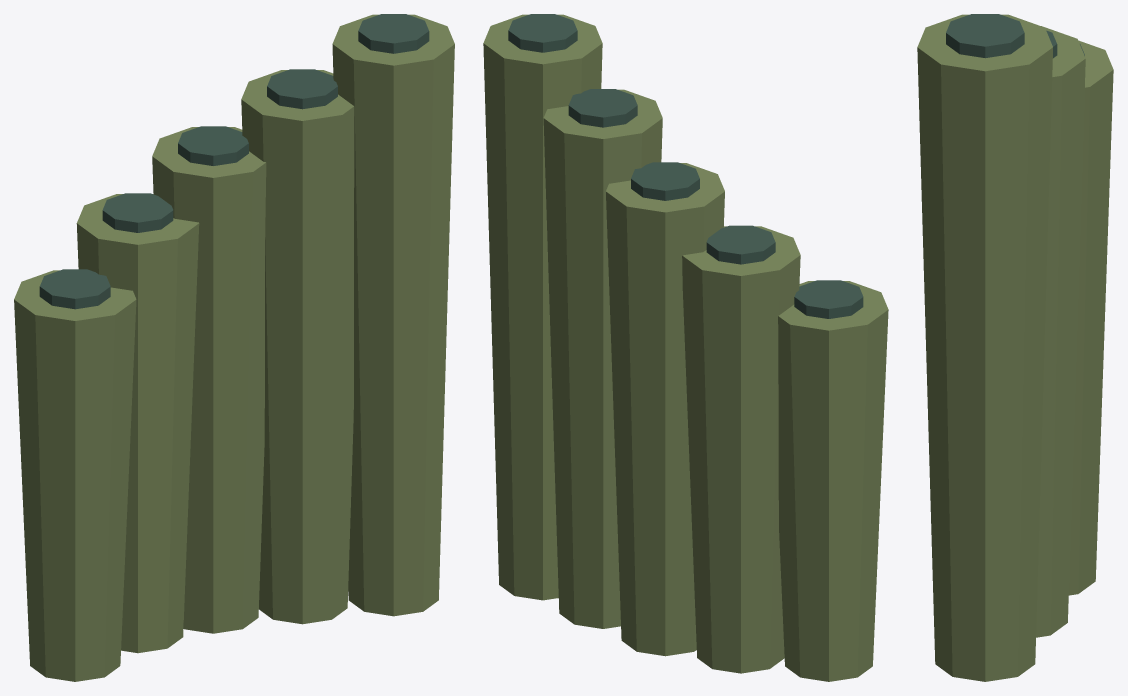
File: map-boundaries-v5__tide_11.glb
3 renders of one model, left to right at view 1: azimuth 30°, elevation 25°; view 2: azimuth 150°, elevation 25°; view 3: azimuth 270°, elevation 25°, orthographic. The views are drawn at different scales.
Parts seen in each view (by area): view 1: tide_11; view 2: tide_11; view 3: tide_11.
Part boxes in pixels (x1=…): tide_11: x1=14, y1=14, x2=454, y2=681; tide_11: x1=483, y1=14, x2=888, y2=681; tide_11: x1=917, y1=14, x2=1113, y2=681.
Bounding box in the file's own units: 1.45 × 1.92 × 0.5409.
